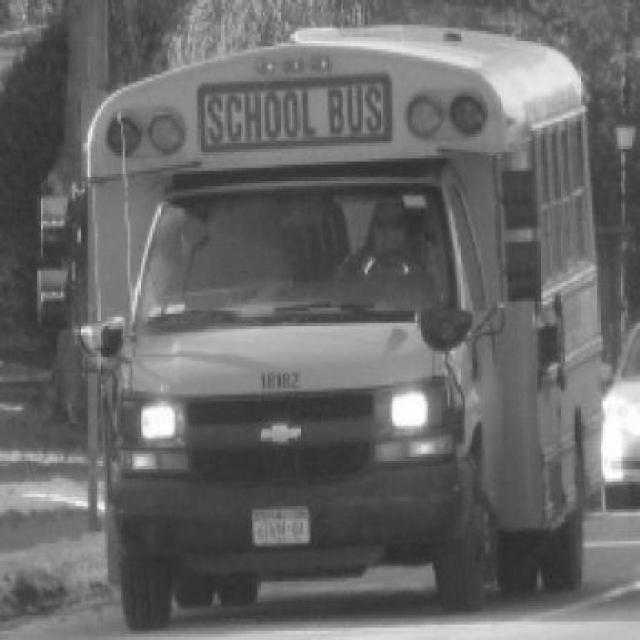Bus- Small: (37, 26, 603, 632)
